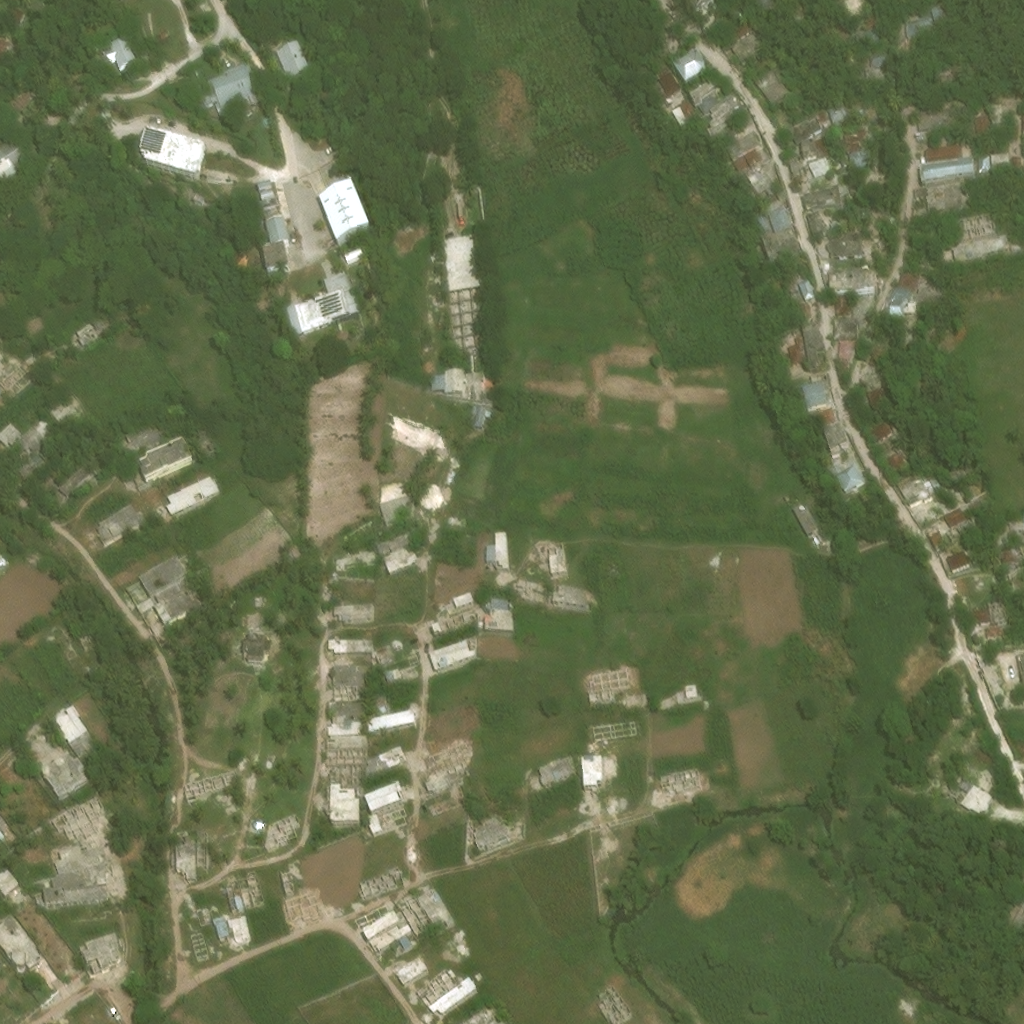major_damage: (399, 889, 453, 938), (444, 766, 464, 784)
minor_damage: (137, 553, 197, 624), (138, 126, 210, 177), (298, 299, 365, 342), (913, 169, 979, 208), (96, 503, 147, 545), (51, 865, 115, 895), (741, 151, 779, 200), (367, 915, 412, 956), (45, 887, 112, 914), (117, 418, 161, 456), (447, 377, 497, 410), (788, 114, 831, 149), (430, 605, 478, 636), (759, 226, 800, 262), (753, 67, 791, 105), (17, 418, 55, 455), (799, 317, 827, 367), (58, 461, 95, 498), (81, 939, 122, 969), (0, 407, 34, 443), (802, 183, 845, 211), (730, 28, 764, 63), (709, 90, 744, 122), (472, 816, 508, 847), (375, 530, 418, 555), (903, 4, 944, 30), (784, 325, 807, 370), (935, 509, 970, 537), (790, 275, 815, 314), (50, 625, 77, 661), (958, 774, 991, 803), (14, 457, 45, 487), (244, 632, 274, 663), (802, 380, 833, 410), (821, 421, 849, 454), (262, 249, 291, 280), (330, 663, 372, 684), (0, 140, 23, 178), (174, 834, 195, 875), (830, 270, 869, 291), (69, 733, 99, 760), (265, 218, 291, 249), (828, 233, 863, 256), (0, 77, 28, 105), (70, 312, 97, 340), (845, 129, 873, 155), (326, 280, 356, 304), (331, 703, 365, 724), (916, 109, 951, 129), (802, 142, 830, 167), (558, 584, 587, 607), (684, 0, 717, 20), (862, 380, 885, 408), (831, 311, 859, 333), (364, 754, 390, 777), (1006, 891, 1023, 925), (977, 238, 1009, 256), (866, 416, 891, 439), (768, 202, 791, 227), (810, 402, 837, 423), (772, 96, 795, 120), (833, 334, 855, 358), (806, 163, 831, 183), (916, 304, 939, 325), (694, 90, 717, 111), (673, 90, 694, 113), (730, 19, 752, 39), (1013, 642, 1023, 685), (968, 604, 993, 621), (470, 1009, 500, 1023), (861, 336, 882, 356), (185, 418, 207, 437), (806, 212, 825, 234), (752, 207, 771, 229), (853, 22, 877, 39), (912, 475, 929, 497), (882, 280, 908, 294), (376, 646, 394, 665), (929, 533, 947, 552), (831, 292, 850, 310), (471, 406, 488, 426), (824, 461, 843, 478), (345, 639, 366, 654), (830, 110, 849, 126), (381, 666, 401, 681), (937, 69, 960, 82), (352, 603, 374, 616), (983, 618, 1000, 634), (888, 450, 904, 467), (866, 45, 885, 59), (860, 356, 874, 372), (997, 543, 1014, 556), (848, 153, 868, 164), (188, 185, 204, 198), (963, 108, 977, 121), (375, 695, 386, 710), (0, 819, 9, 837), (257, 181, 273, 191), (844, 0, 862, 8), (202, 431, 212, 440), (874, 365, 884, 372), (919, 154, 926, 164), (392, 746, 400, 754), (822, 256, 828, 263)
no_damage: (202, 66, 260, 116), (137, 434, 192, 480), (723, 128, 762, 170), (276, 44, 314, 85), (380, 496, 416, 534), (793, 504, 825, 543), (105, 38, 137, 75), (832, 463, 864, 493), (926, 147, 965, 166), (652, 61, 678, 89), (947, 553, 972, 575), (894, 264, 918, 285)
unclassified: (104, 802, 130, 839), (32, 76, 55, 101), (310, 219, 326, 240), (300, 207, 316, 224), (285, 100, 297, 114), (160, 32, 173, 44), (319, 236, 331, 248), (296, 184, 303, 191)
